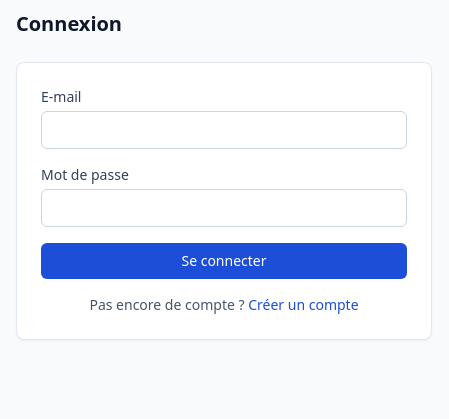
Test: LoginPage › affiche un message générique sur identifiants invalides (401)
Type "patient@medilink.local" into the field labelled "E-mail" at {"x": 224, "y": 130}, box [41,111,407,149]
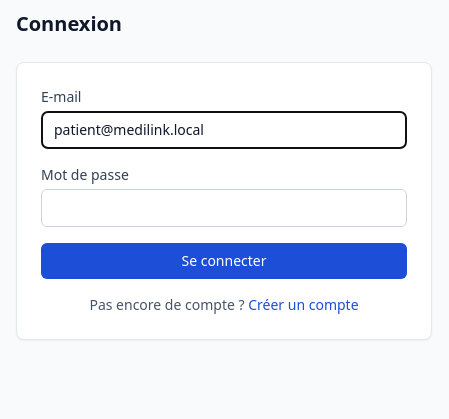
Type "wrong-password" into the password field labelled "Mot de passe" at {"x": 224, "y": 208}, box [41,189,407,227]
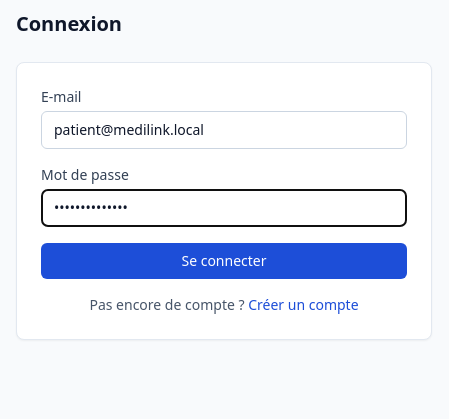
Click the button "Se connecter" at {"x": 224, "y": 261}, box [41,243,407,279]
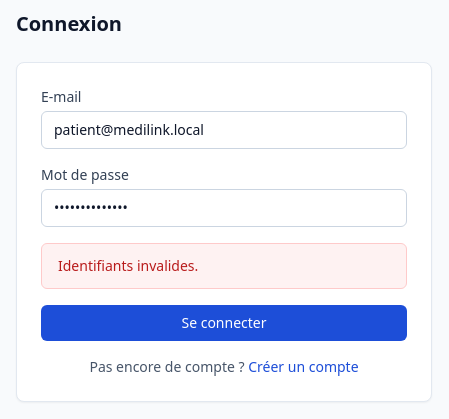
Expected: the message reads "Identifiants invalides.", [58,256,198,275]
